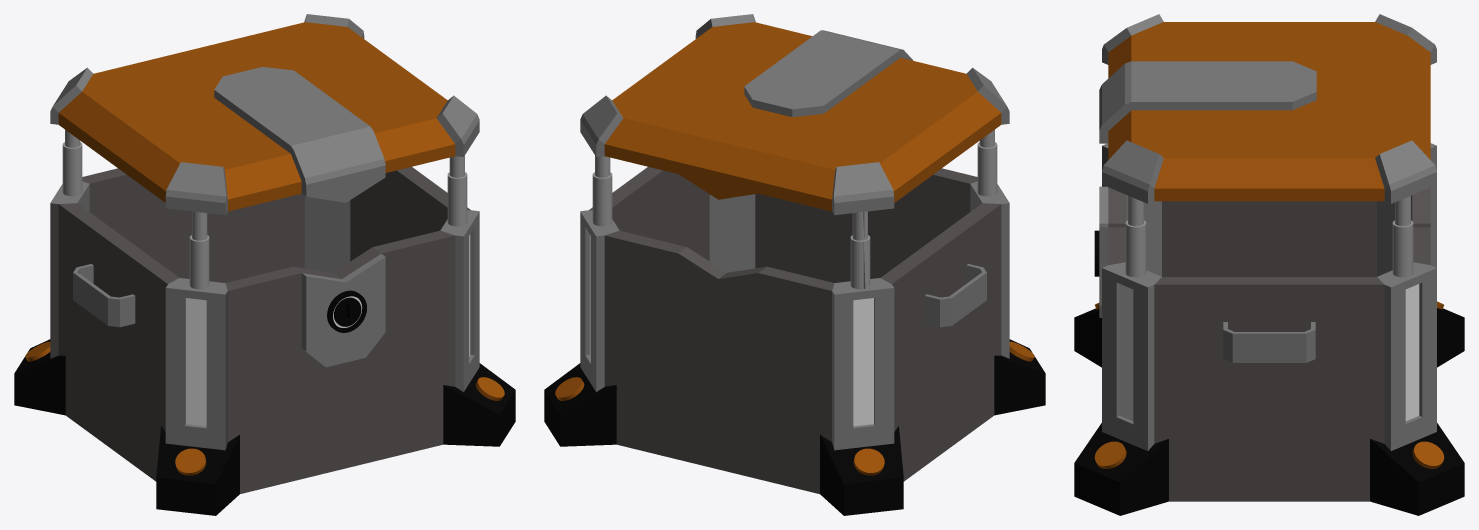
Rendered from LootChestOpen (1).fbx.
The picture shows the model from 3 angles, left to right: view 1: azimuth 30°, elevation 25°; view 2: azimuth 150°, elevation 25°; view 3: azimuth 270°, elevation 25°; orthographic projection. The views are drawn at different scales.
Parts seen in each view (by area): view 1: ChestModel1OPEN; view 2: ChestModel1OPEN; view 3: ChestModel1OPEN.
Boxes of the visible parts, box(x1,y1,x2,y2) form: ChestModel1OPEN: box(14, 14, 515, 515); ChestModel1OPEN: box(544, 14, 1045, 515); ChestModel1OPEN: box(1074, 14, 1464, 515).
Size of the model in its own units: 94.85 by 82 by 84.85.
